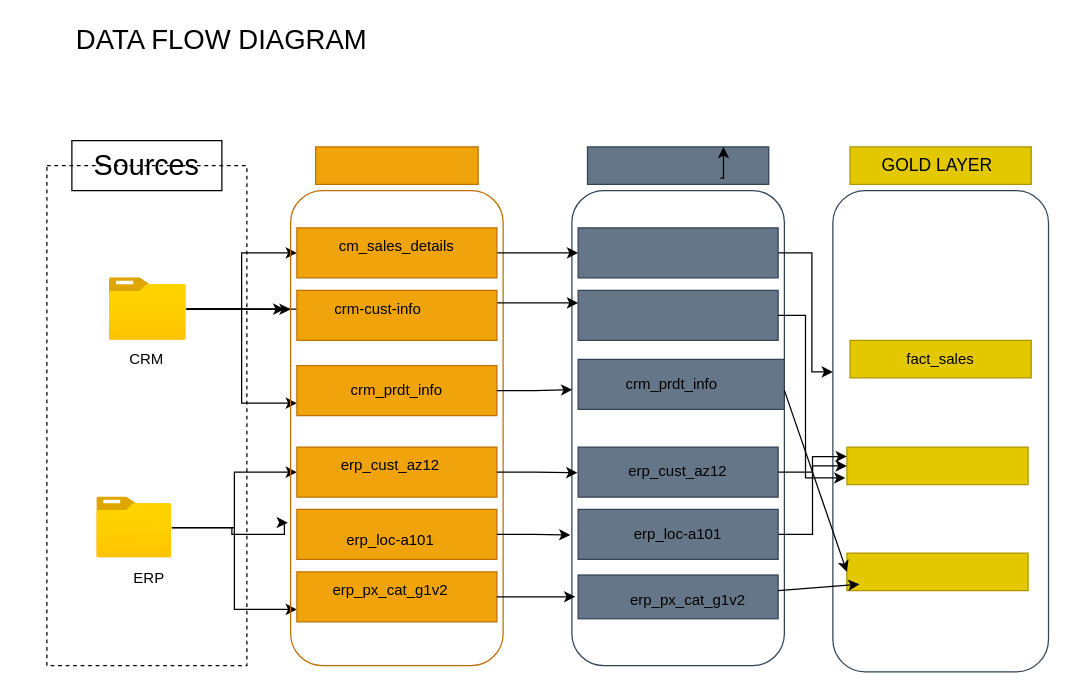
Some shapes in this 1070 by 694 pixel diagram are drawn without their labels. The shapes that lost their labels are listed below. From the top down, each one's centre as x and y in pixels, then its label:
At [396,165]: "BRONZE LAYER".
At [677,165]: "SILVER LAYER".
At [677,252]: "crm_sales_details".
At [677,314]: "crm_cust_info".
At [937,465]: "dim_customers".
At [937,571]: "dim_products".
